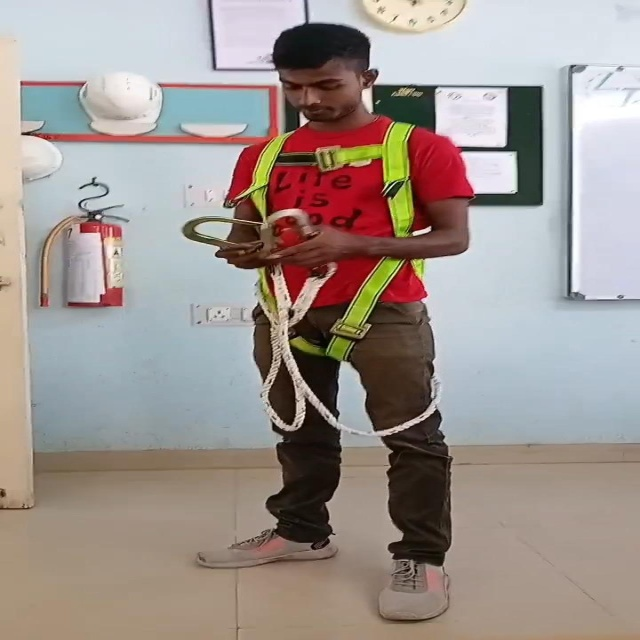Arnes_seguridad: (227, 110, 448, 366)
